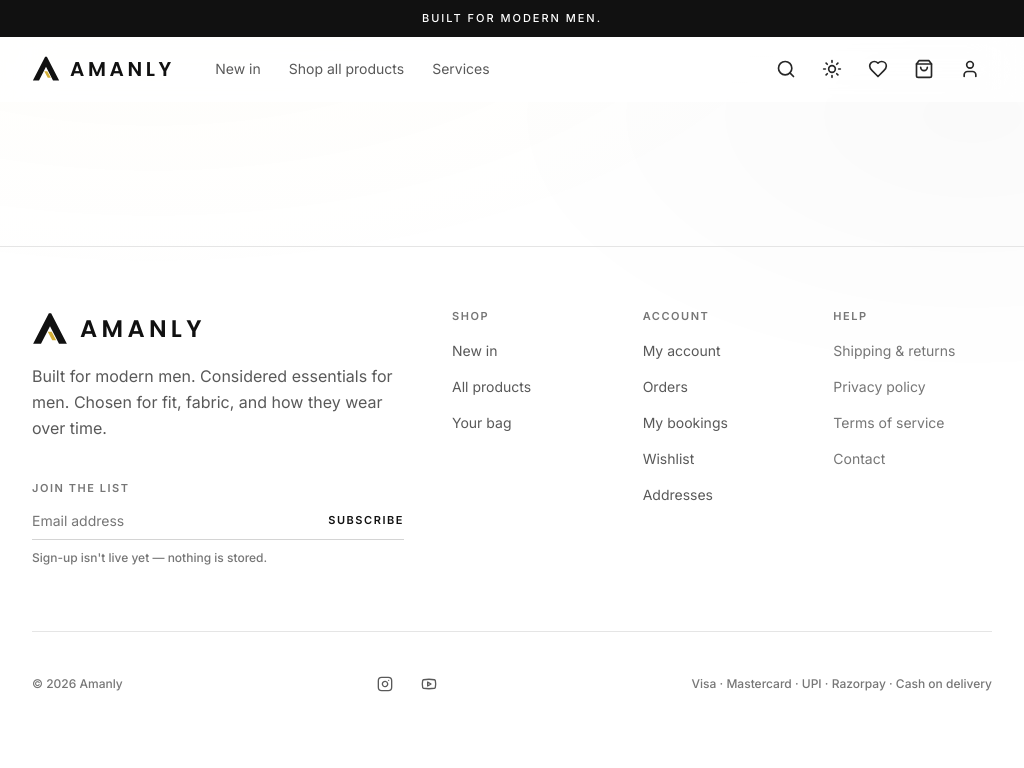
Storefront account menu › offers STAFF the store console, named for the store and their role
Click the button named "Account menu" at (970, 68), box [948,46,992,90]
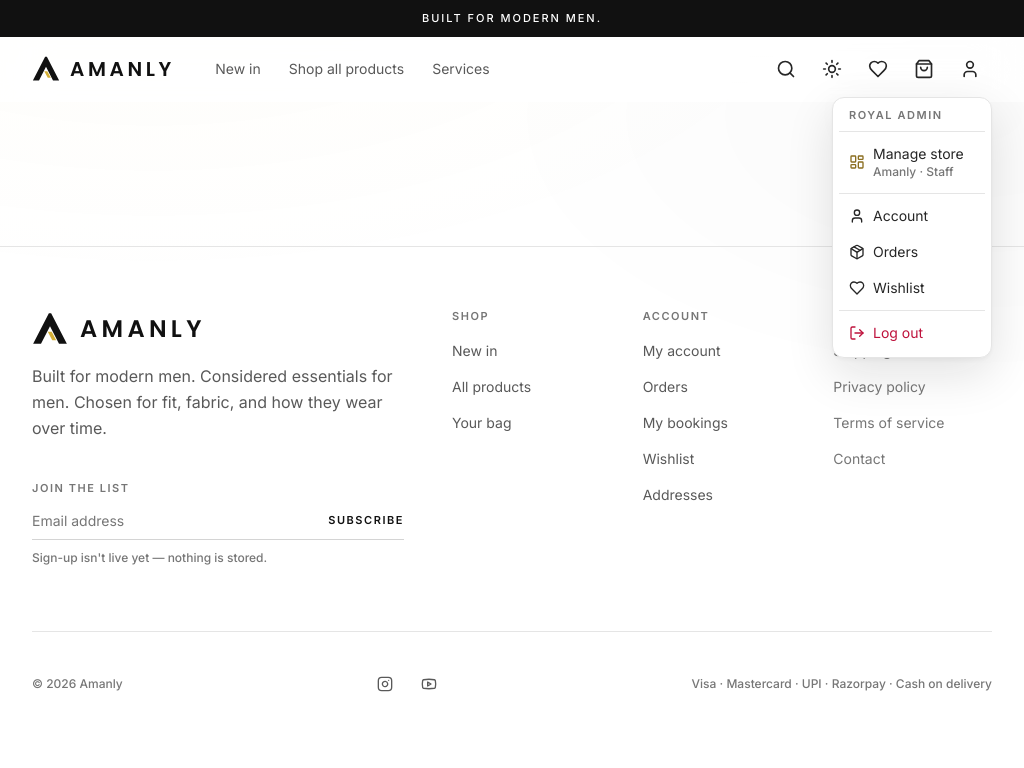
Result: the menu item "Manage store Amanly · Staff" is shown at [849,145,964,179]
